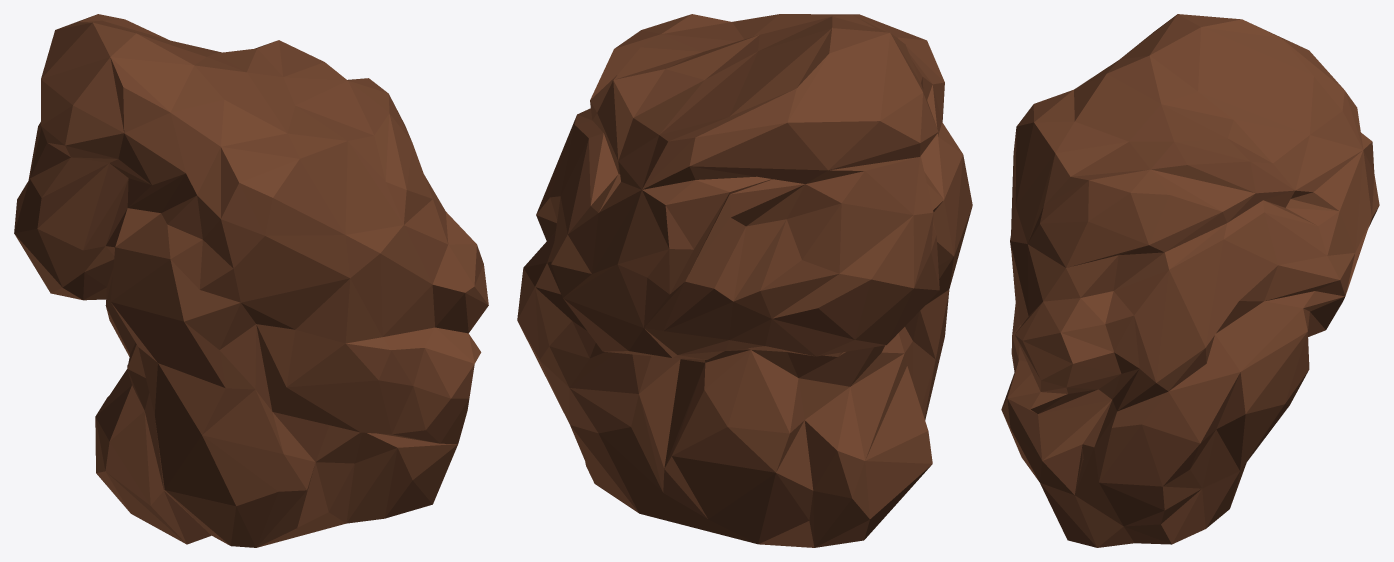
The model's file is SM_cliff_04.fbx.
3 renders of one model, left to right at view 1: azimuth 30°, elevation 25°; view 2: azimuth 150°, elevation 25°; view 3: azimuth 270°, elevation 25°, orthographic. The views are drawn at different scales.
Parts seen in each view (by area): view 1: cliff_04; view 2: cliff_04; view 3: cliff_04.
Boxes of the visible parts, box(x1,y1,x2,y2) form: cliff_04: box(14, 14, 488, 547); cliff_04: box(517, 14, 972, 547); cliff_04: box(1001, 14, 1379, 547).
Size of the model in its own units: 1967 by 2377 by 1918.
